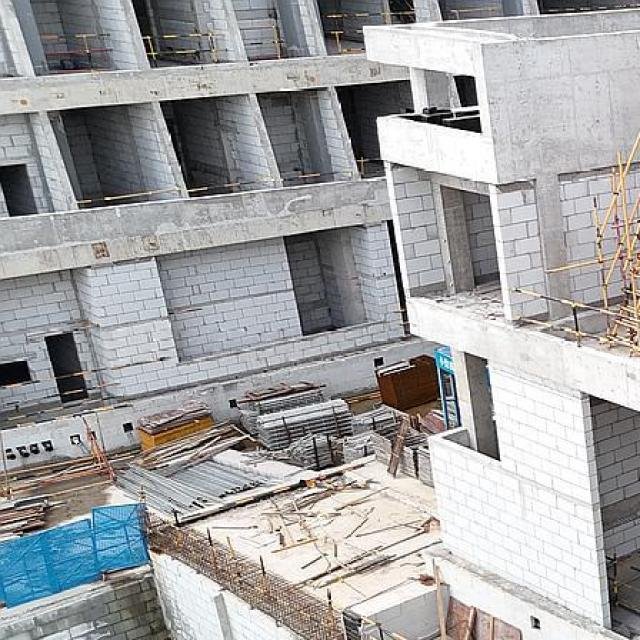edge_guardrail: (145, 508, 342, 636), (510, 285, 640, 352), (0, 367, 129, 432), (319, 11, 415, 54), (40, 33, 117, 73), (142, 33, 227, 67), (605, 552, 640, 614), (76, 186, 175, 204), (239, 20, 285, 56), (187, 178, 272, 192), (361, 615, 408, 640), (441, 7, 504, 20), (543, 4, 640, 12), (280, 170, 336, 180), (356, 156, 380, 175)
